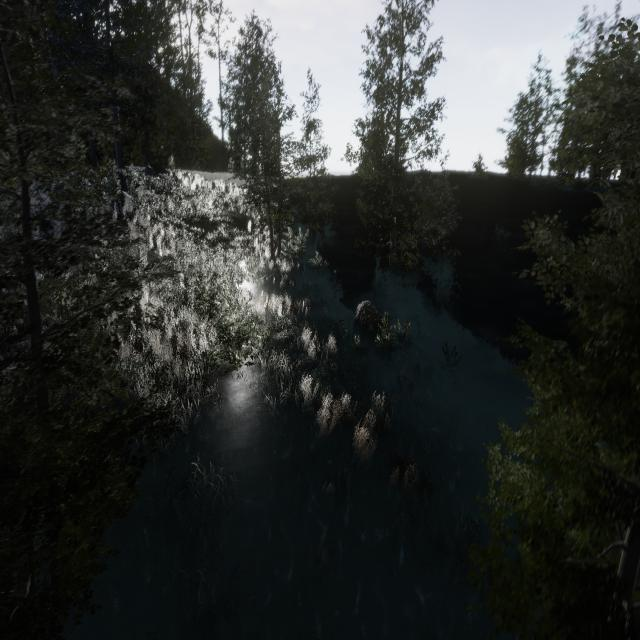Human: (326, 322, 342, 366)
